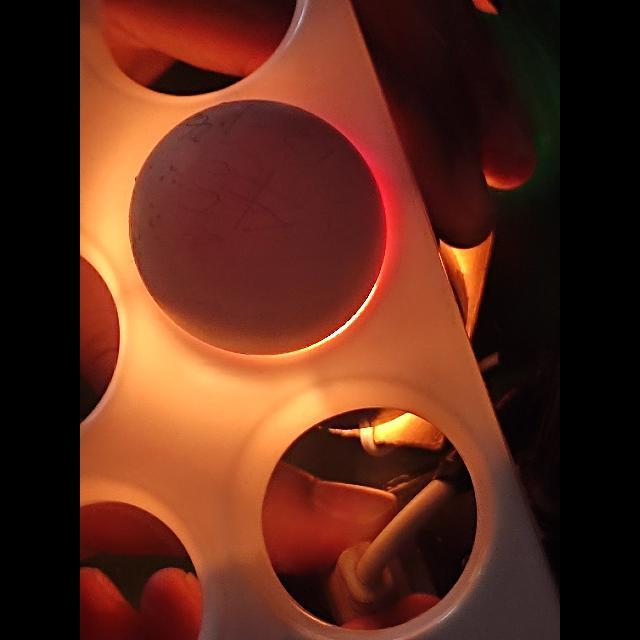Fertile: (125, 100, 387, 354)
